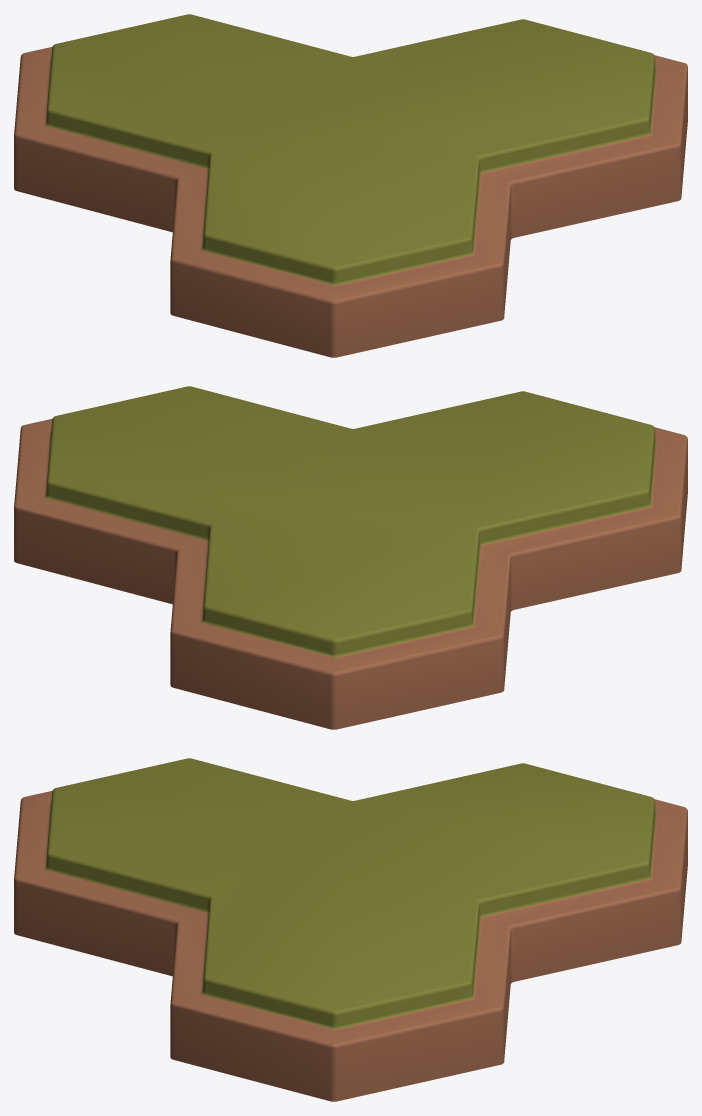
3 views of the same model, one above another, from view 1: azimuth 30°, elevation 25°; view 2: azimuth 150°, elevation 25°; view 3: azimuth 270°, elevation 25° (orthographic).
Parts seen in each view (by area): view 1: TILE; view 2: TILE; view 3: TILE.
Part boxes in pixels (x1=…): TILE: x1=14, y1=14, x2=687, y2=357; TILE: x1=14, y1=386, x2=687, y2=729; TILE: x1=14, y1=758, x2=687, y2=1101.
Bounding box in the file's own units: 352 × 42.3 × 350.
